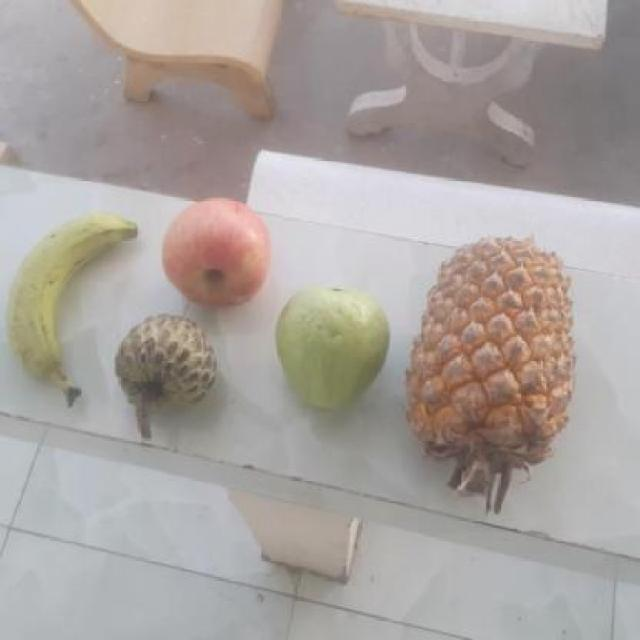apple: (156, 197, 275, 311)
banana: (10, 215, 141, 387)
guava: (273, 285, 389, 410)
pineapple: (412, 232, 580, 463)
sugar apple: (114, 314, 221, 438)
